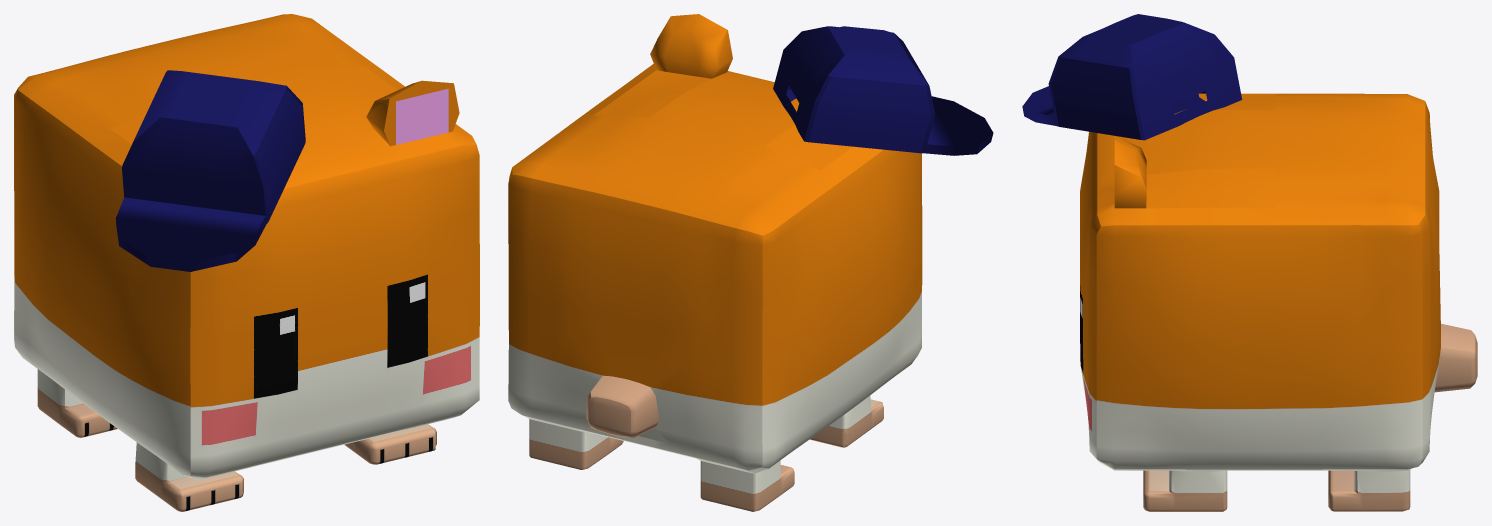
The model's file is CapSideEat.fbx.
The picture shows the model from 3 angles, left to right: view 1: azimuth 30°, elevation 25°; view 2: azimuth 150°, elevation 25°; view 3: azimuth 270°, elevation 25°; orthographic projection. The views are drawn at different scales.
Visible parts, largest first — view 1: CAP:pCube9; view 2: CAP:pCube9; view 3: CAP:pCube9.
Boxes of the visible parts, <box> form: CAP:pCube9: <box>14,14,479,511</box>; CAP:pCube9: <box>508,14,993,511</box>; CAP:pCube9: <box>1022,14,1477,511</box>.
Bounding box in the file's own units: 4.83 × 5.2 × 5.5.
